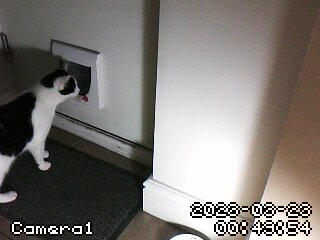bad: (1, 55, 84, 210)
